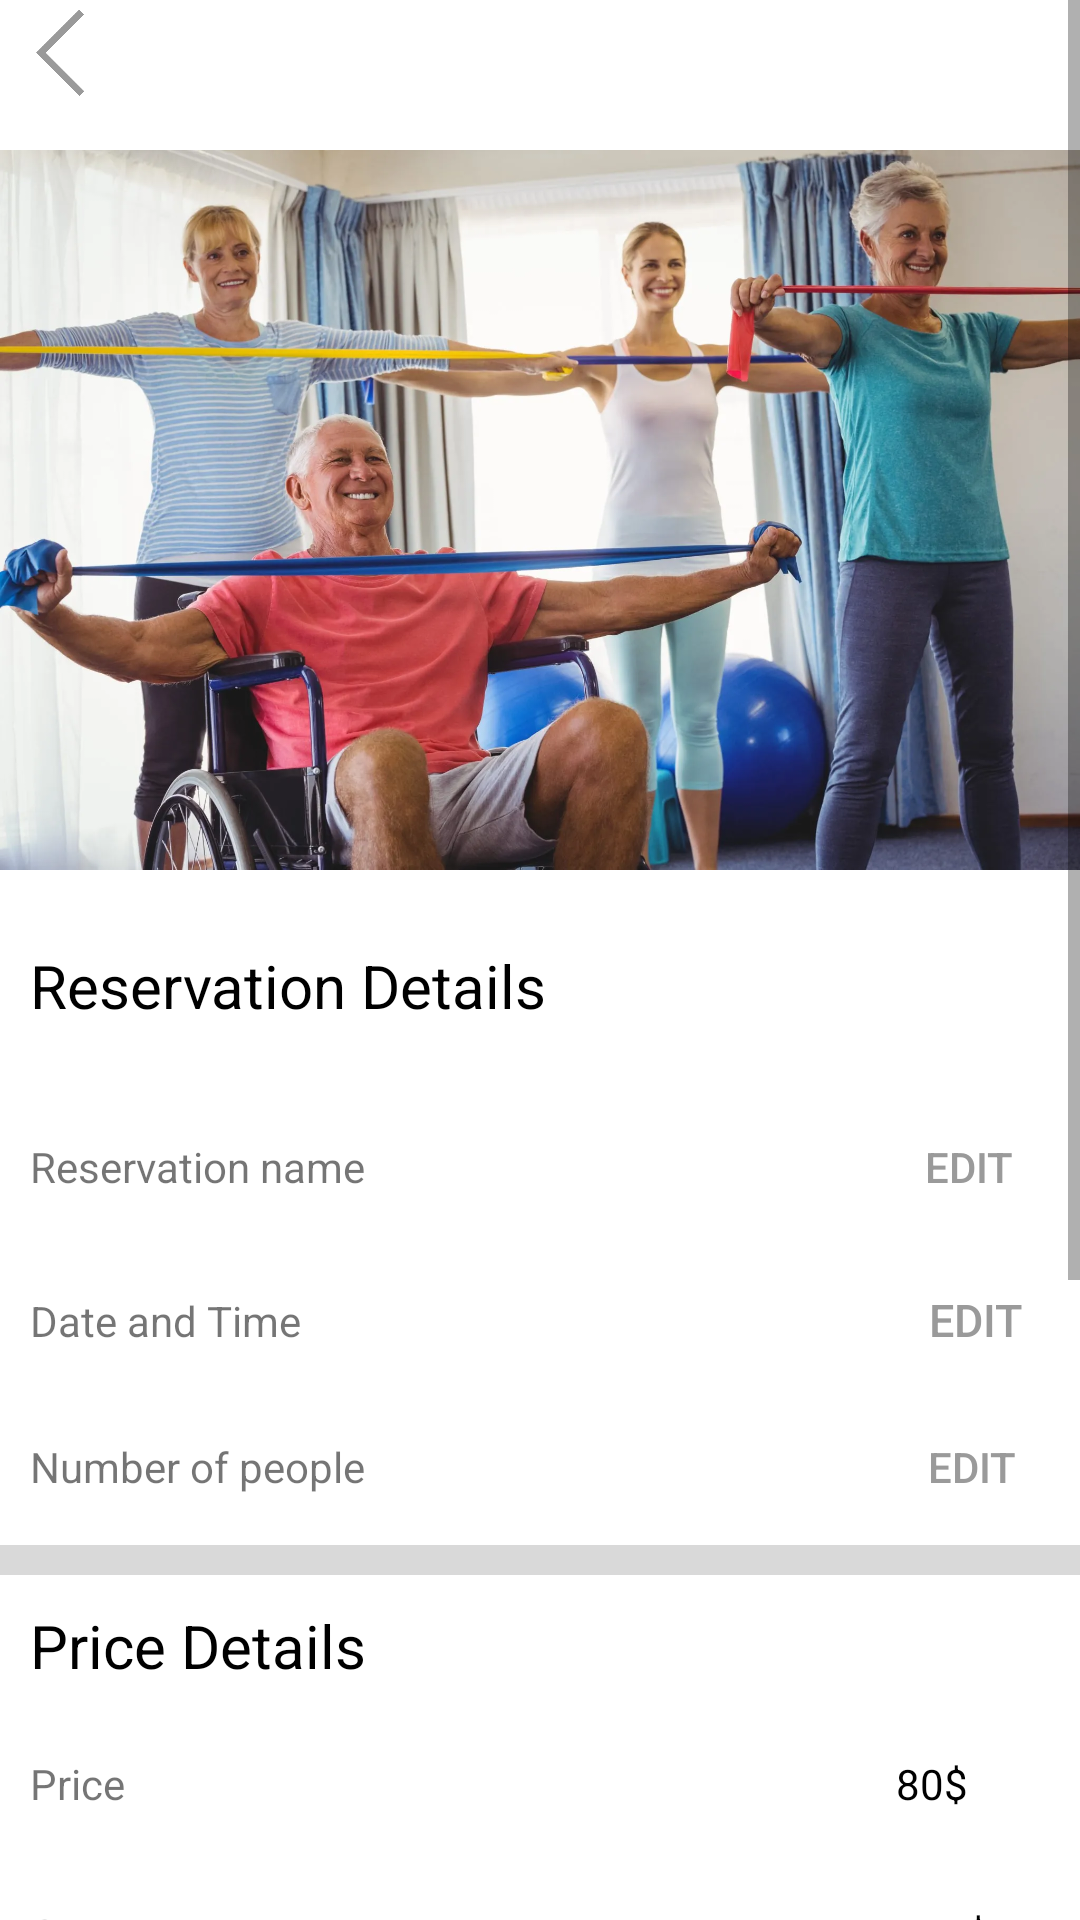

Screen size 1080 x 1920. Icon name, then its box in pixels as BBox(x1, y1, x2, y2):
prebutton: BBox(36, 10, 84, 96)
